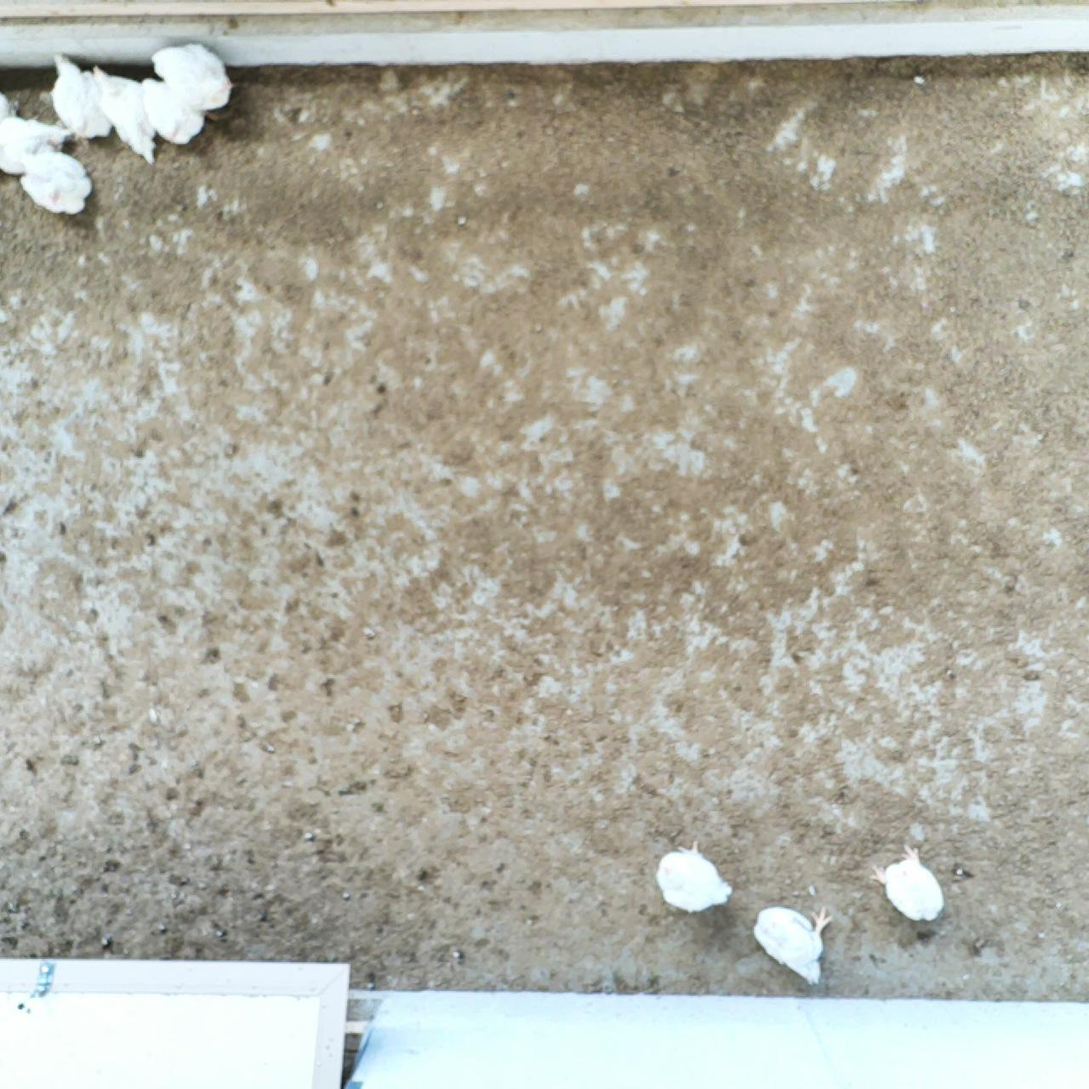chicken: (81, 62, 164, 161), (147, 39, 241, 125), (749, 901, 834, 985), (870, 840, 947, 927), (45, 56, 115, 143), (654, 840, 733, 912), (13, 149, 93, 217), (132, 75, 205, 147), (0, 114, 68, 176), (0, 83, 20, 131)
